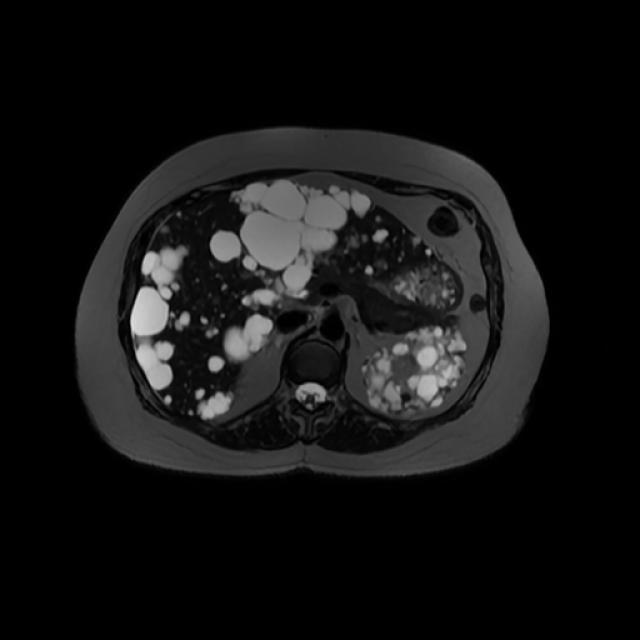sol: (368, 322, 467, 419)
